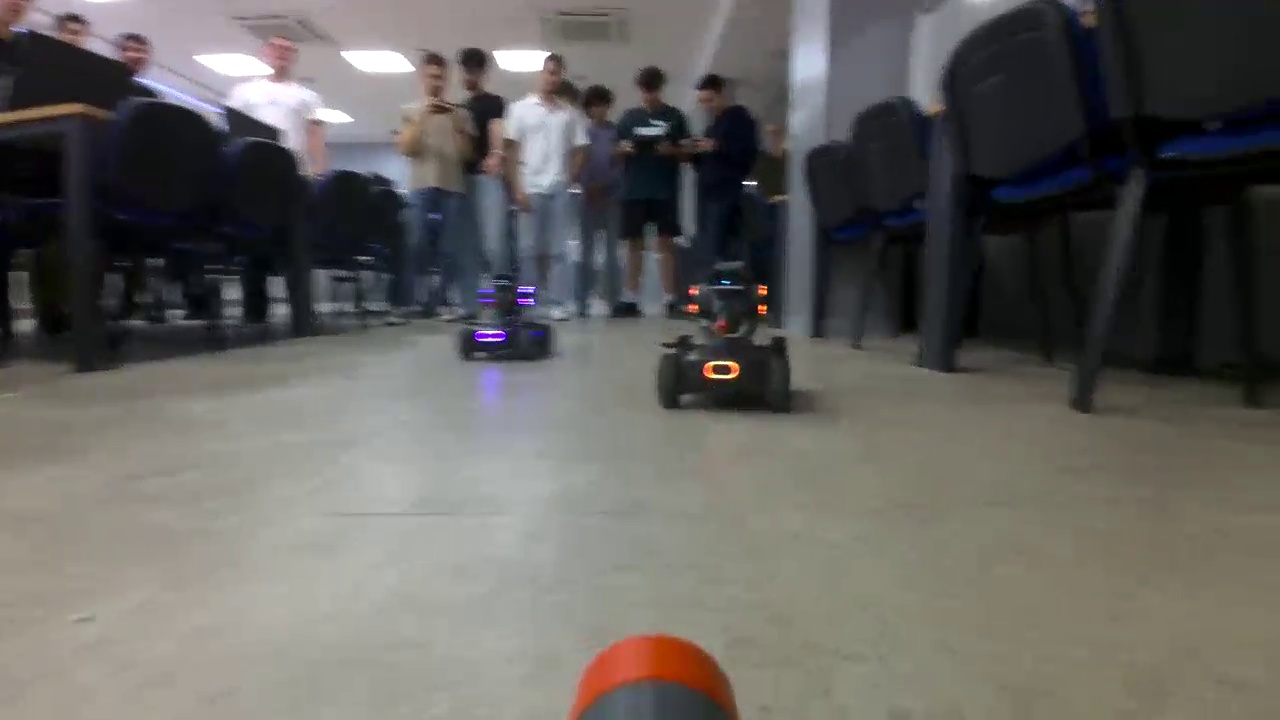robot: (655, 261, 792, 411), (458, 274, 553, 359)
